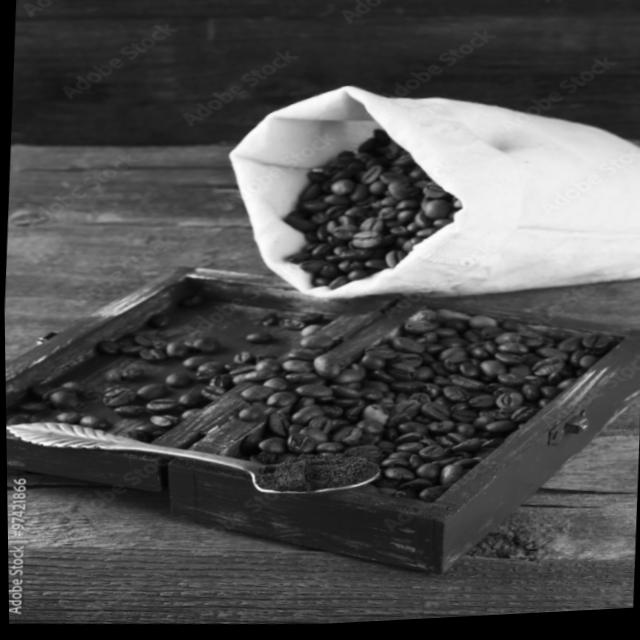sack: (217, 71, 640, 324)
